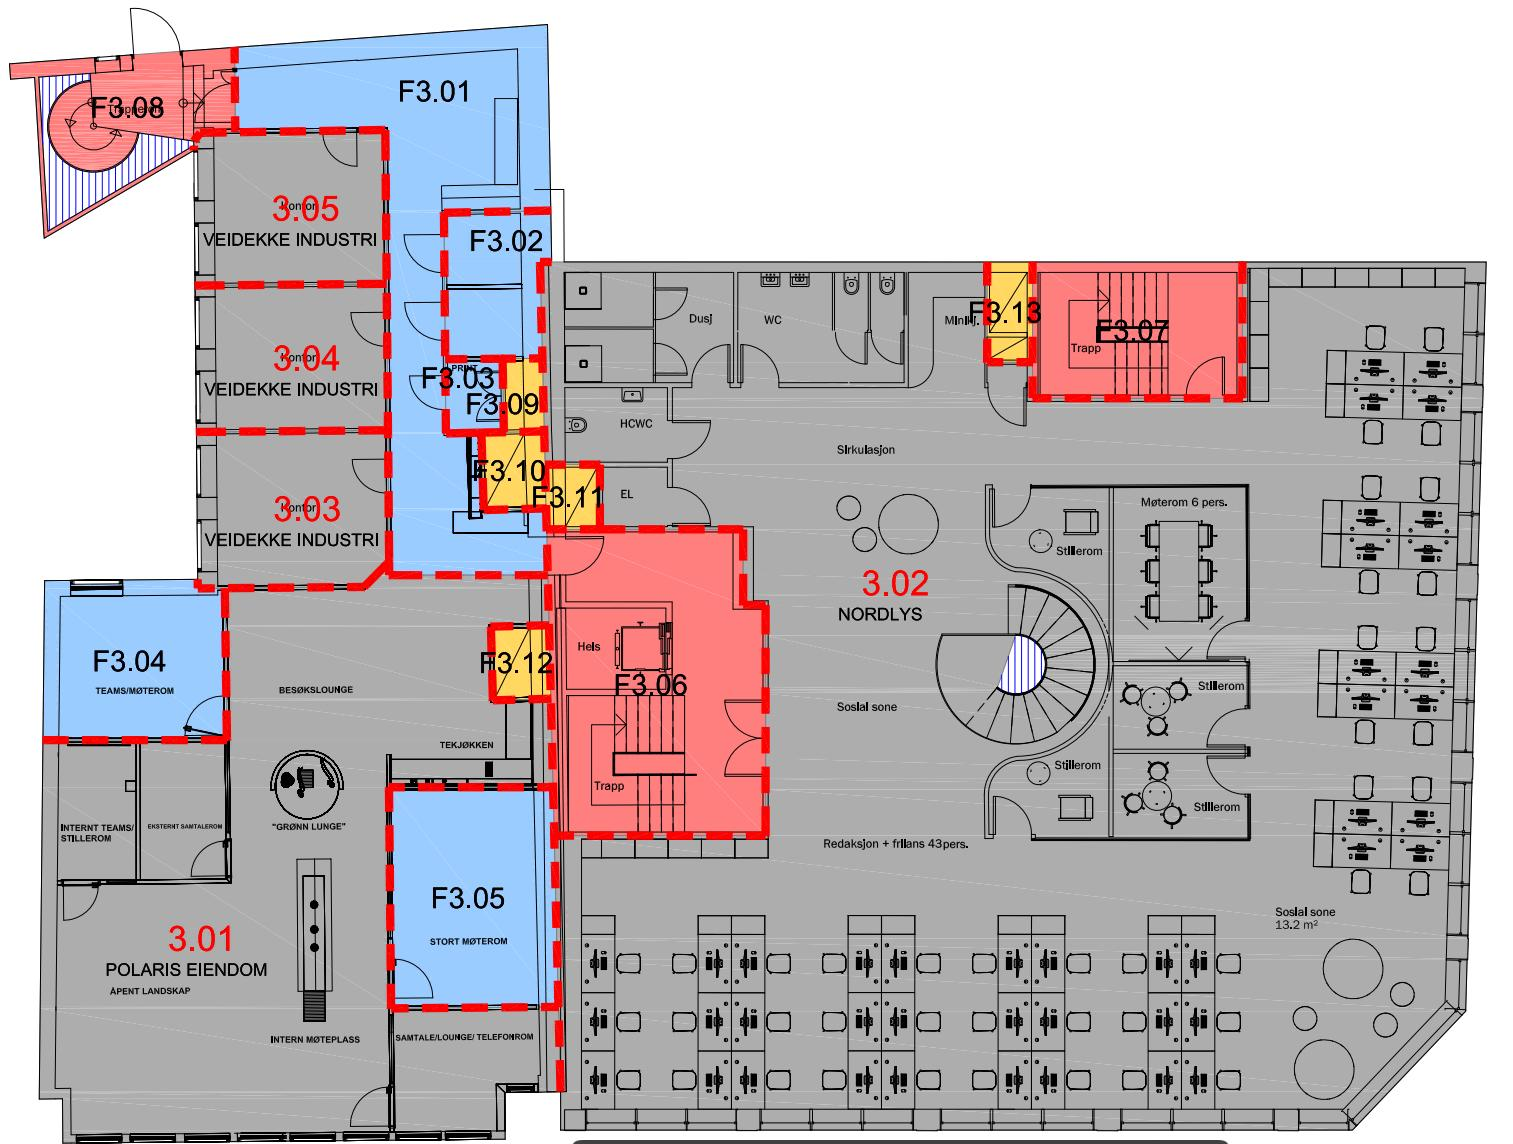room: (554, 529, 764, 836), (391, 785, 542, 1007), (1032, 261, 1245, 398), (203, 431, 388, 588), (202, 132, 383, 286), (50, 588, 227, 740), (202, 284, 386, 430), (37, 68, 190, 230), (1110, 485, 1247, 663), (735, 270, 905, 385), (138, 740, 230, 881), (1112, 663, 1249, 752), (1112, 752, 1250, 839), (56, 743, 137, 883), (988, 485, 1110, 572), (987, 757, 1110, 839), (560, 383, 669, 465), (655, 270, 732, 383), (441, 211, 523, 287), (442, 288, 523, 358), (561, 270, 655, 328), (561, 329, 654, 383), (600, 463, 671, 529), (987, 261, 1029, 362), (445, 361, 505, 430)
